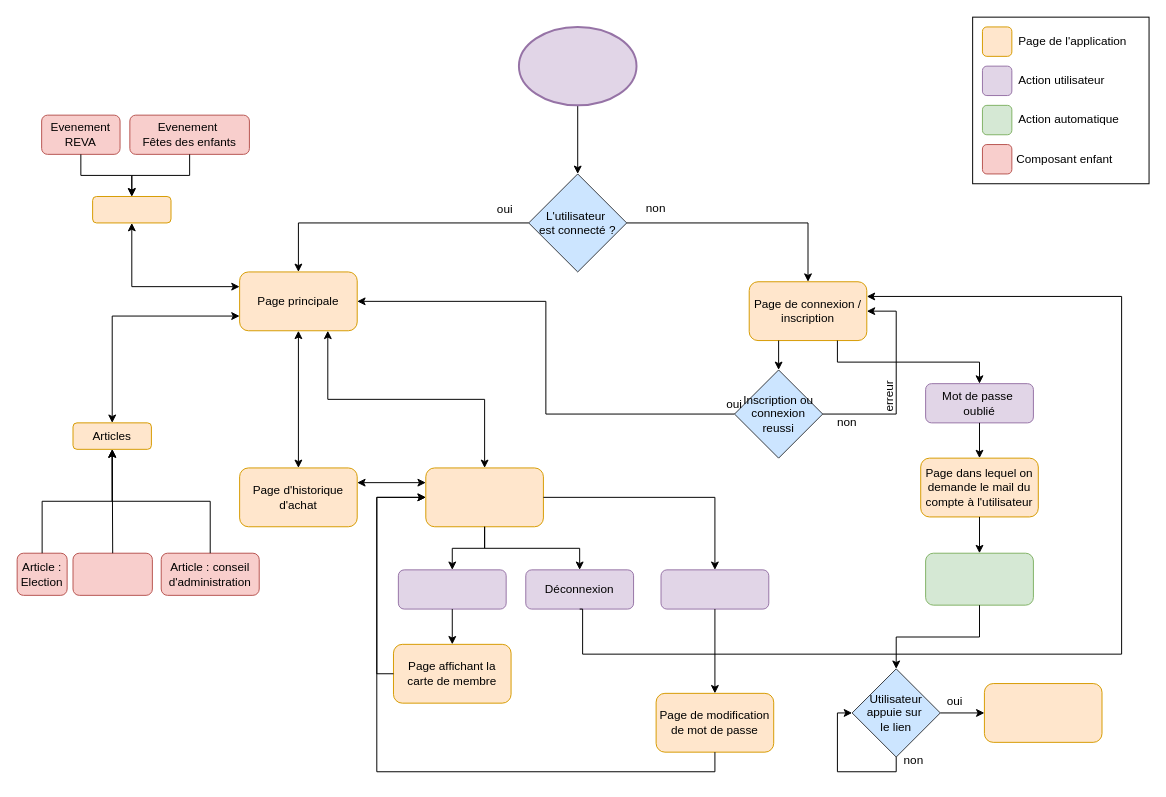
This 1166x797 diagram has some shape labels left out. Each missing label, with the centre of its shape:
"Afficher carte" goes at point 451,589.
"Article : Qui somme nous" goes at point 112,573.
"Envoie d'un mail contenant un lien à l'utilisateur" goes at point 979,578.
"Modifier le mot de passe" goes at point 714,589.
"Ouverture de l'application" goes at point 577,65.
"Page de profil" goes at point 484,497.
"Page de réinitialisation de mot de passe" goes at point 1042,712.
"Photothèque" goes at point 131,209.
